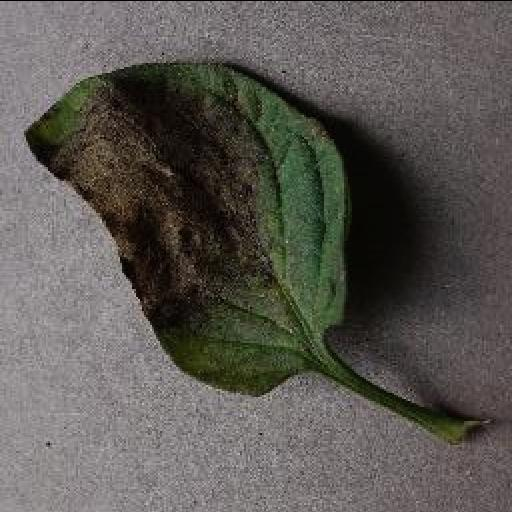disease_tomato: (22, 56, 350, 394)
